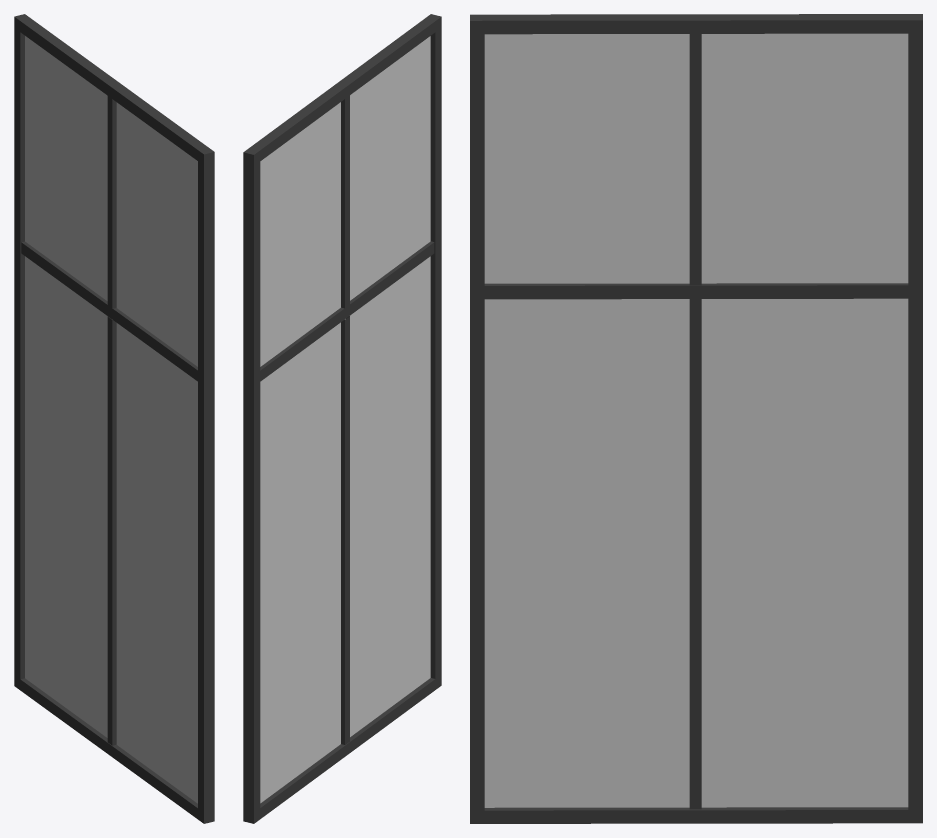
File: Seperator08.fbx
3 views of the same model, side by side, from view 1: azimuth 30°, elevation 25°; view 2: azimuth 150°, elevation 25°; view 3: azimuth 270°, elevation 25° (orthographic). The views are drawn at different scales.
Parts seen in each view (by area): view 1: Seperator08; view 2: Seperator08; view 3: Seperator08.
Part boxes in pixels (box(x1,y1,x2,y2)): Seperator08: box(14, 14, 214, 823); Seperator08: box(243, 14, 441, 823); Seperator08: box(470, 14, 922, 823).
Size of the model in its own units: 0.055 by 1.53 by 3.
